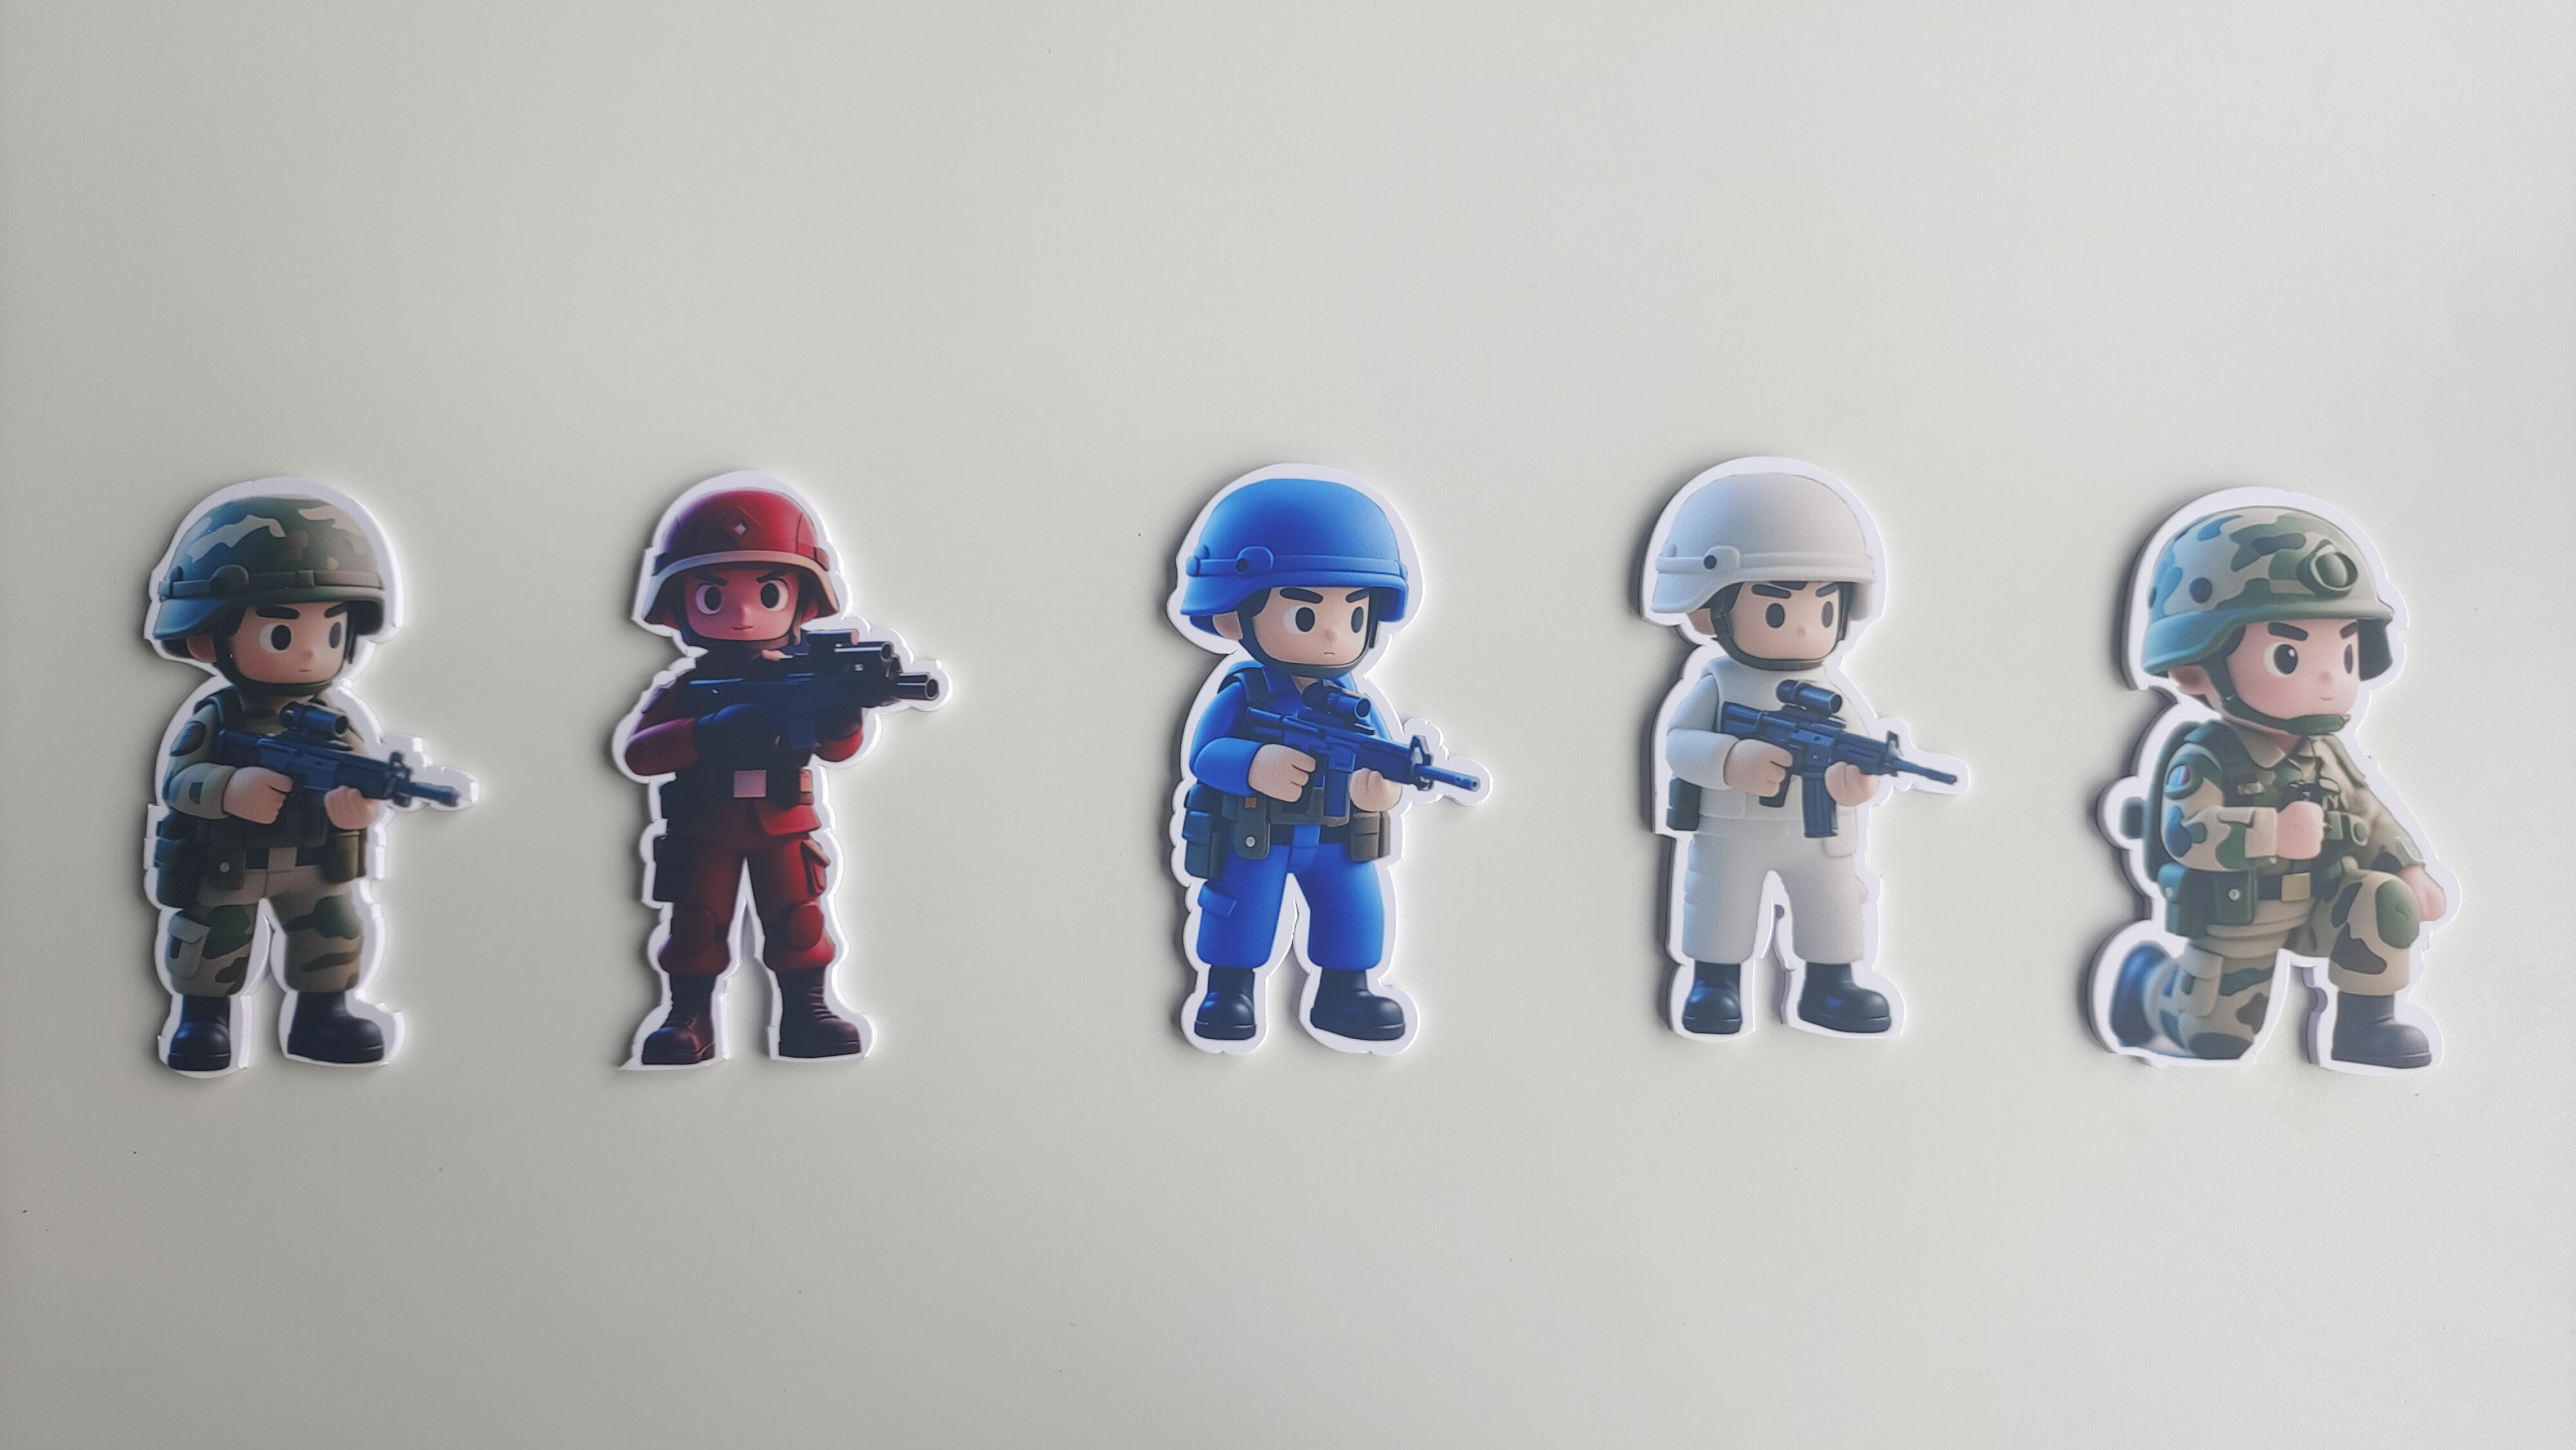enemy1: (582, 647, 901, 1073)
enemy2: (1148, 674, 1449, 1073)
friend: (2075, 716, 2459, 1080), (131, 690, 418, 1084)
hostage: (1619, 667, 1955, 1045)
